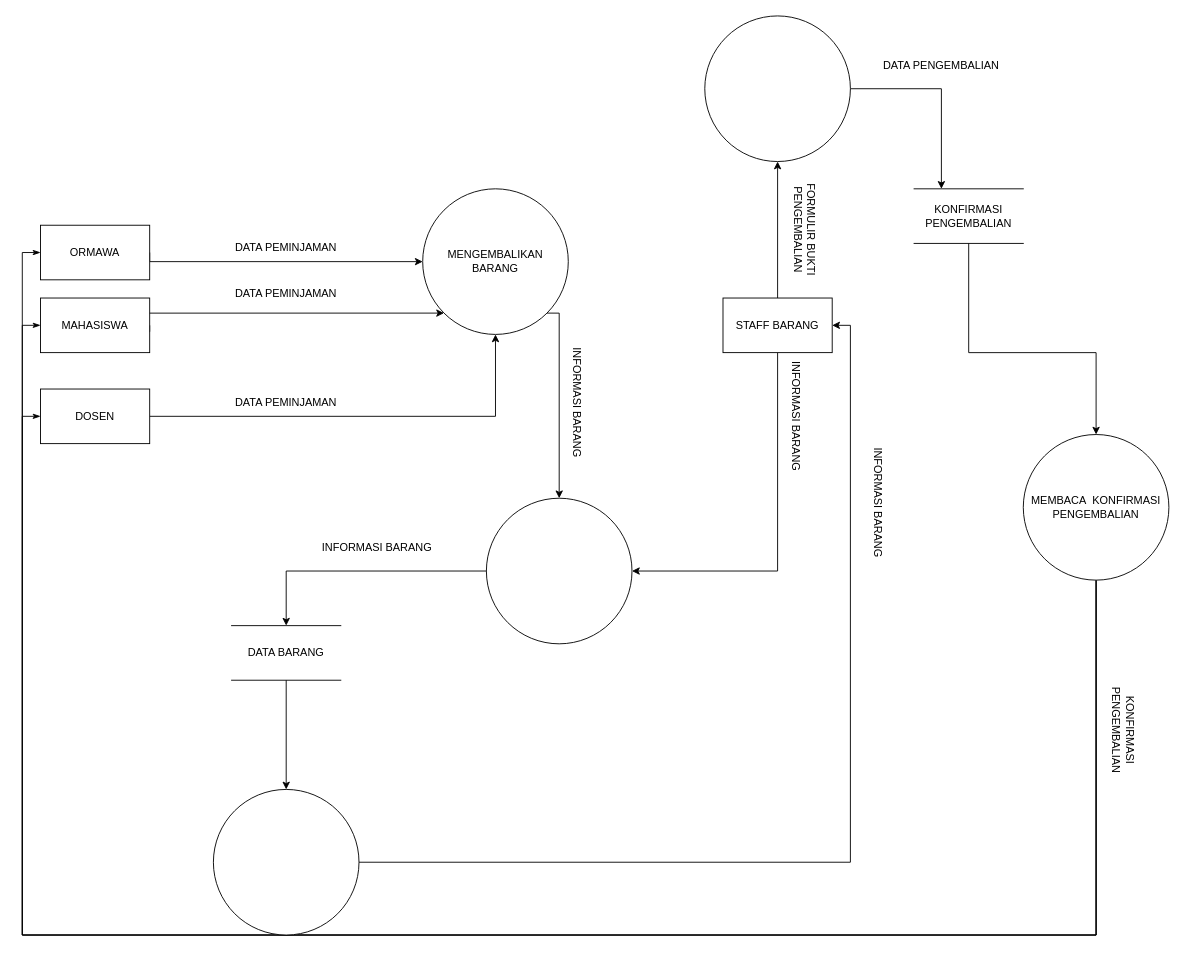
Some shapes in this 1185 by 958 pixel diagram are drawn without their labels. The shapes that lost their labels are listed below. From the top down, each one's centre as x and y in pixels, then its label:
pixel 777 88: MEMBUAT DATA PENGEMBALIAN
pixel 558 570: MEMERIKSA BARANG
pixel 285 862: MEMBACA INFORMASI DATA BARANG PENGEMBALIAN
